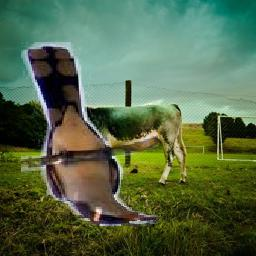Cuckoo: (22, 42, 159, 226)
